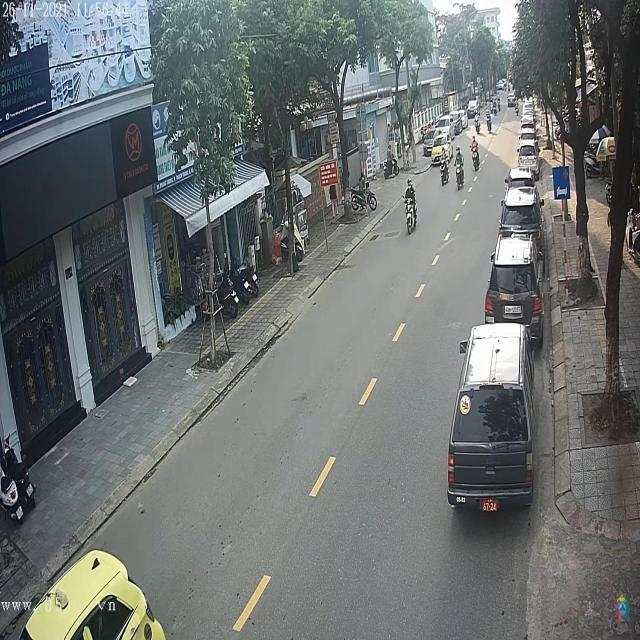car: (449, 326, 535, 510), (485, 234, 543, 350), (499, 188, 543, 237)
motorcycle: (404, 194, 419, 236), (439, 159, 451, 188), (455, 159, 466, 190), (472, 146, 481, 170)
